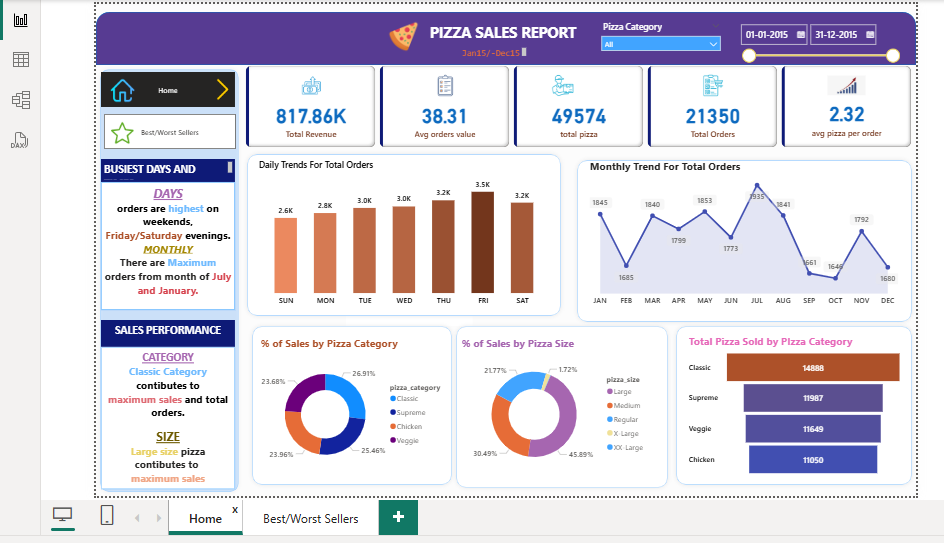

What the dashboard file says about the page in this screenshot:
{"tool":"powerbi","page":{"name":"Home","canvas":[1500,900],"ordinal":0},"visuals":[{"type":"textbox","box":[457.3,448.2,232.3,140.9],"z":0},{"type":"cardVisual","fields":{"Data":["pizza_sales.Total Revenue","pizza_sales.Avg orders value","pizza_sales.total pizza","pizza_sales.Total Orders","pizza_sales.avg pizza per order"]},"box":[268.9,107.9,1231.1,159.1],"z":1000},{"type":"shape","box":[0,14.6,1500,97],"z":2000},{"type":"textbox","box":[574.4,27.4,340.2,56.7],"z":3000},{"type":"textbox","box":[664,75,128,32.9],"z":4000},{"type":"image","box":[519.5,27.4,86,64],"z":5000},{"type":"shape","box":[268.9,267.1,589,311],"z":6000},{"type":"columnChart","title":"Daily Trends For Total Orders","fields":{"Category":["pizza_sales.Order Day"],"Y":["pizza_sales.Total Orders"]},"box":[292.7,283.5,543.3,276.2],"z":7000},{"type":"shape","box":[872.6,278,627.4,311],"z":8000},{"type":"areaChart","title":"Monthly Trend For Total Orders","fields":{"Y":["pizza_sales.Total Orders"],"Category":["pizza_sales.Order Month"]},"box":[898.2,283.5,574.4,276.2],"z":9000},{"type":"shape","box":[278,581.7,380.5,305.5],"z":10000},{"type":"shape","box":[651.2,581.7,402.4,311],"z":11000},{"type":"shape","box":[1053.7,581.7,446.3,305.5],"z":12000},{"type":"shape","box":[0,111.6,268.9,788.4],"z":13000},{"type":"donutChart","title":"% of Sales by Pizza Category","fields":{"Category":["pizza_sales.pizza_category"],"Y":["pizza_sales.Total Revenue"]},"box":[296.3,607.3,354.9,261.6],"z":14000},{"type":"donutChart","title":"% of Sales by Pizza Size","fields":{"Category":["pizza_sales.pizza_size"],"Y":["pizza_sales.Total Revenue"]},"box":[664,607.3,354.9,261.6],"z":15000},{"type":"funnel","title":"Total Pizza Sold by PIzza Category","fields":{"Category":["pizza_sales.pizza_category"],"Y":["pizza_sales.total pizza"]},"box":[1079.3,603.7,400.6,265.2],"z":16000},{"type":"textbox","box":[9.1,283.5,245.1,42.1],"z":17000},{"type":"textbox","box":[9.1,325.6,245.1,234.1],"z":18000},{"type":"textbox","box":[9.1,627.4,245.1,259.8],"z":19000},{"type":"textbox","box":[9.1,578,245.1,49.4],"z":20000},{"type":"slicer","fields":{"Values":["pizza_sales.pizza_category"]},"box":[914.6,25.6,237.8,84.1],"z":21000},{"type":"slicer","fields":{"Values":["pizza_sales.order_date"]},"box":[1167.1,27.4,312.8,80.5],"z":22000},{"type":"pageNavigator","box":[9.8,123.5,245.1,64.7],"z":23000},{"type":"pageNavigator","box":[13.7,202,241.2,64.7],"z":24000},{"type":"image","box":[200,131.4,64.7,49],"z":25000},{"type":"image","box":[9.8,131.4,78.4,52.9],"z":26000},{"type":"image","box":[3.9,209.8,88.2,51],"z":27000}]}

Visuals, with their boxes on the page's 1500x900 design canvas (x1, y1, x2, y2). These are canvas units, not pixel positions in the 944x543 screenshot, which may show the page scaled, cropped or inside an application window:
textbox: bbox=[457, 448, 690, 589]
cardVisual - pizza_sales.Total Revenue x pizza_sales.Avg orders value: bbox=[269, 108, 1500, 267]
shape: bbox=[0, 15, 1500, 112]
textbox: bbox=[574, 27, 915, 84]
textbox: bbox=[664, 75, 792, 108]
image: bbox=[520, 27, 606, 91]
shape: bbox=[269, 267, 858, 578]
"Daily Trends For Total Orders" columnChart: bbox=[293, 284, 836, 560]
shape: bbox=[873, 278, 1500, 589]
"Monthly Trend For Total Orders" areaChart: bbox=[898, 284, 1473, 560]
shape: bbox=[278, 582, 658, 887]
shape: bbox=[651, 582, 1054, 893]
shape: bbox=[1054, 582, 1500, 887]
shape: bbox=[0, 112, 269, 900]
"% of Sales by Pizza Category" donutChart: bbox=[296, 607, 651, 869]
"% of Sales by Pizza Size" donutChart: bbox=[664, 607, 1019, 869]
"Total Pizza Sold by PIzza Category" funnel: bbox=[1079, 604, 1480, 869]
textbox: bbox=[9, 284, 254, 326]
textbox: bbox=[9, 326, 254, 560]
textbox: bbox=[9, 627, 254, 887]
textbox: bbox=[9, 578, 254, 627]
slicer - pizza_sales.pizza_category: bbox=[915, 26, 1152, 110]
slicer - pizza_sales.order_date: bbox=[1167, 27, 1480, 108]
pageNavigator: bbox=[10, 124, 255, 188]
pageNavigator: bbox=[14, 202, 255, 267]
image: bbox=[200, 131, 265, 180]
image: bbox=[10, 131, 88, 184]
image: bbox=[4, 210, 92, 261]
